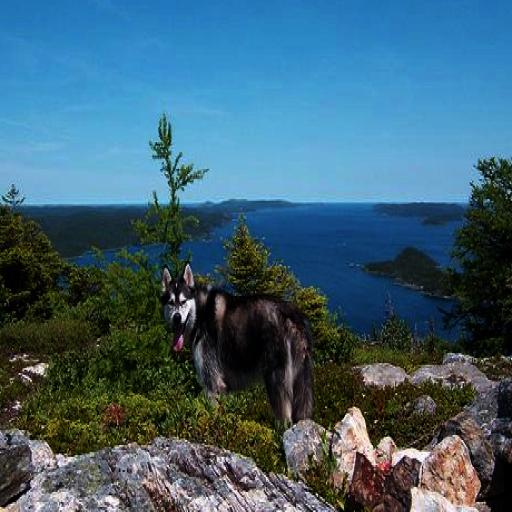dog_face: (160, 264, 198, 357)
